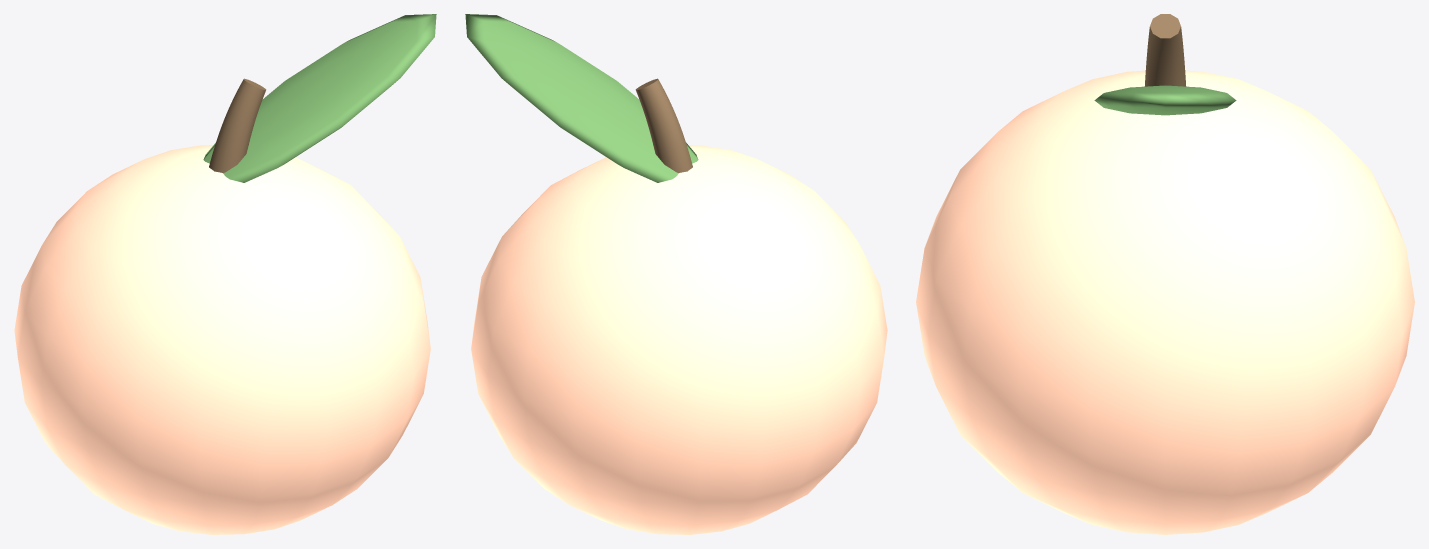
File: CorelightPeach.fbx
3 renders of one model, left to right at view 1: azimuth 30°, elevation 25°; view 2: azimuth 150°, elevation 25°; view 3: azimuth 270°, elevation 25°, orthographic. The views are drawn at different scales.
Visible parts, largest first — view 1: Handle, Leaf, Twig; view 2: Handle, Leaf, Twig; view 3: Handle, Leaf, Twig.
Part boxes in pixels (x1=…): Handle: x1=14, y1=145, x2=430, y2=534; Leaf: x1=203, y1=14, x2=436, y2=182; Twig: x1=209, y1=78, x2=266, y2=172; Handle: x1=471, y1=145, x2=887, y2=534; Leaf: x1=465, y1=14, x2=698, y2=182; Twig: x1=635, y1=78, x2=692, y2=172; Handle: x1=916, y1=70, x2=1414, y2=534; Leaf: x1=1094, y1=85, x2=1236, y2=115; Twig: x1=1144, y1=14, x2=1186, y2=86.
Size of the model in its own units: 1.22 by 1.32 by 1.12.
